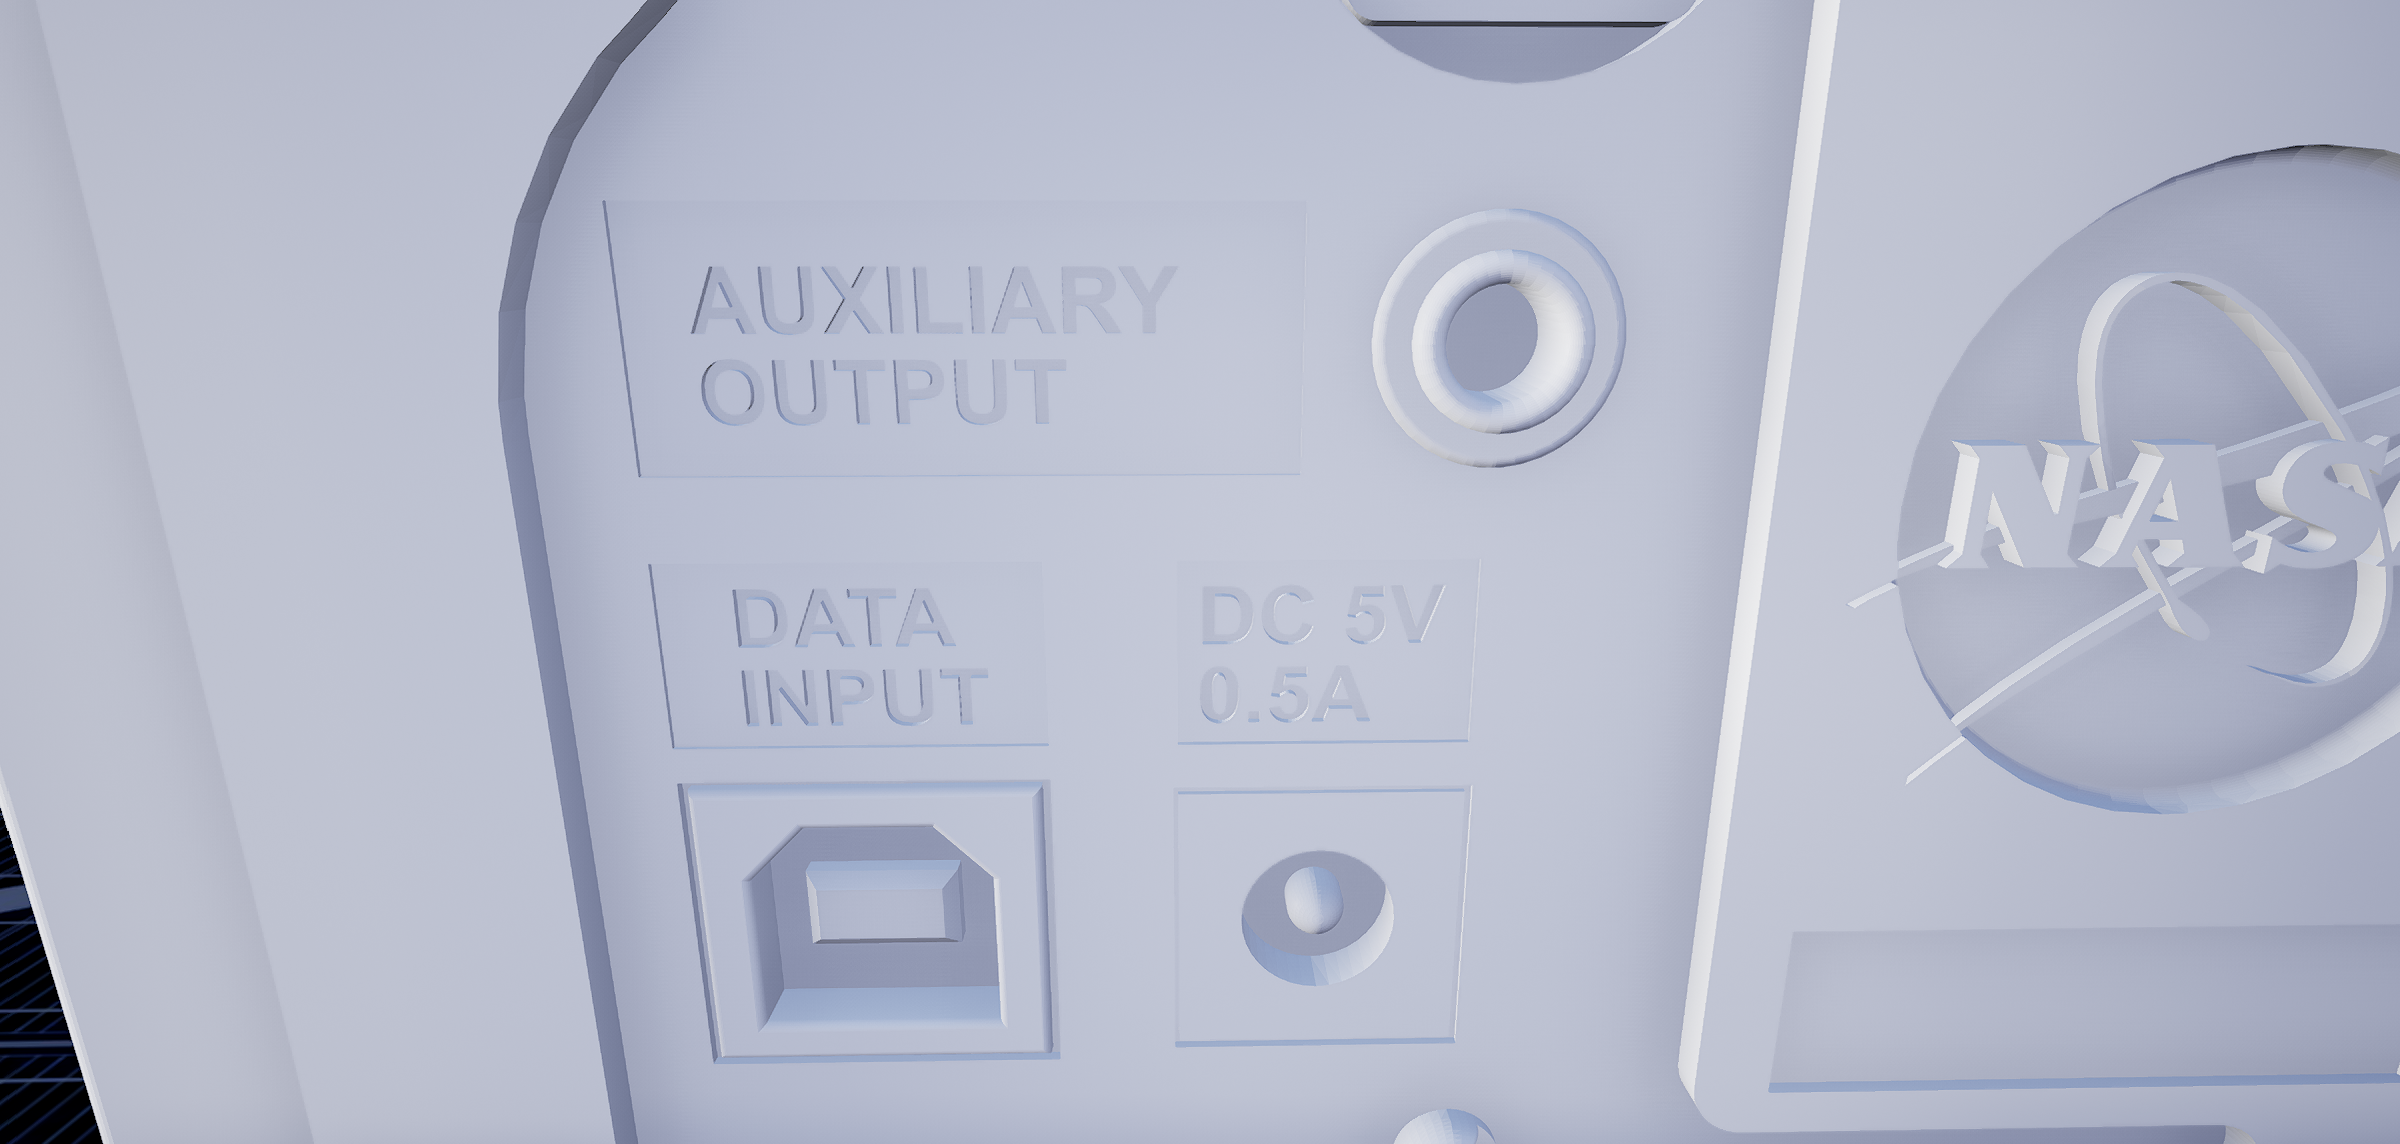aux: (1347, 193, 1662, 499)
dc: (1214, 839, 1414, 1018)
usb: (739, 818, 1019, 1044)
